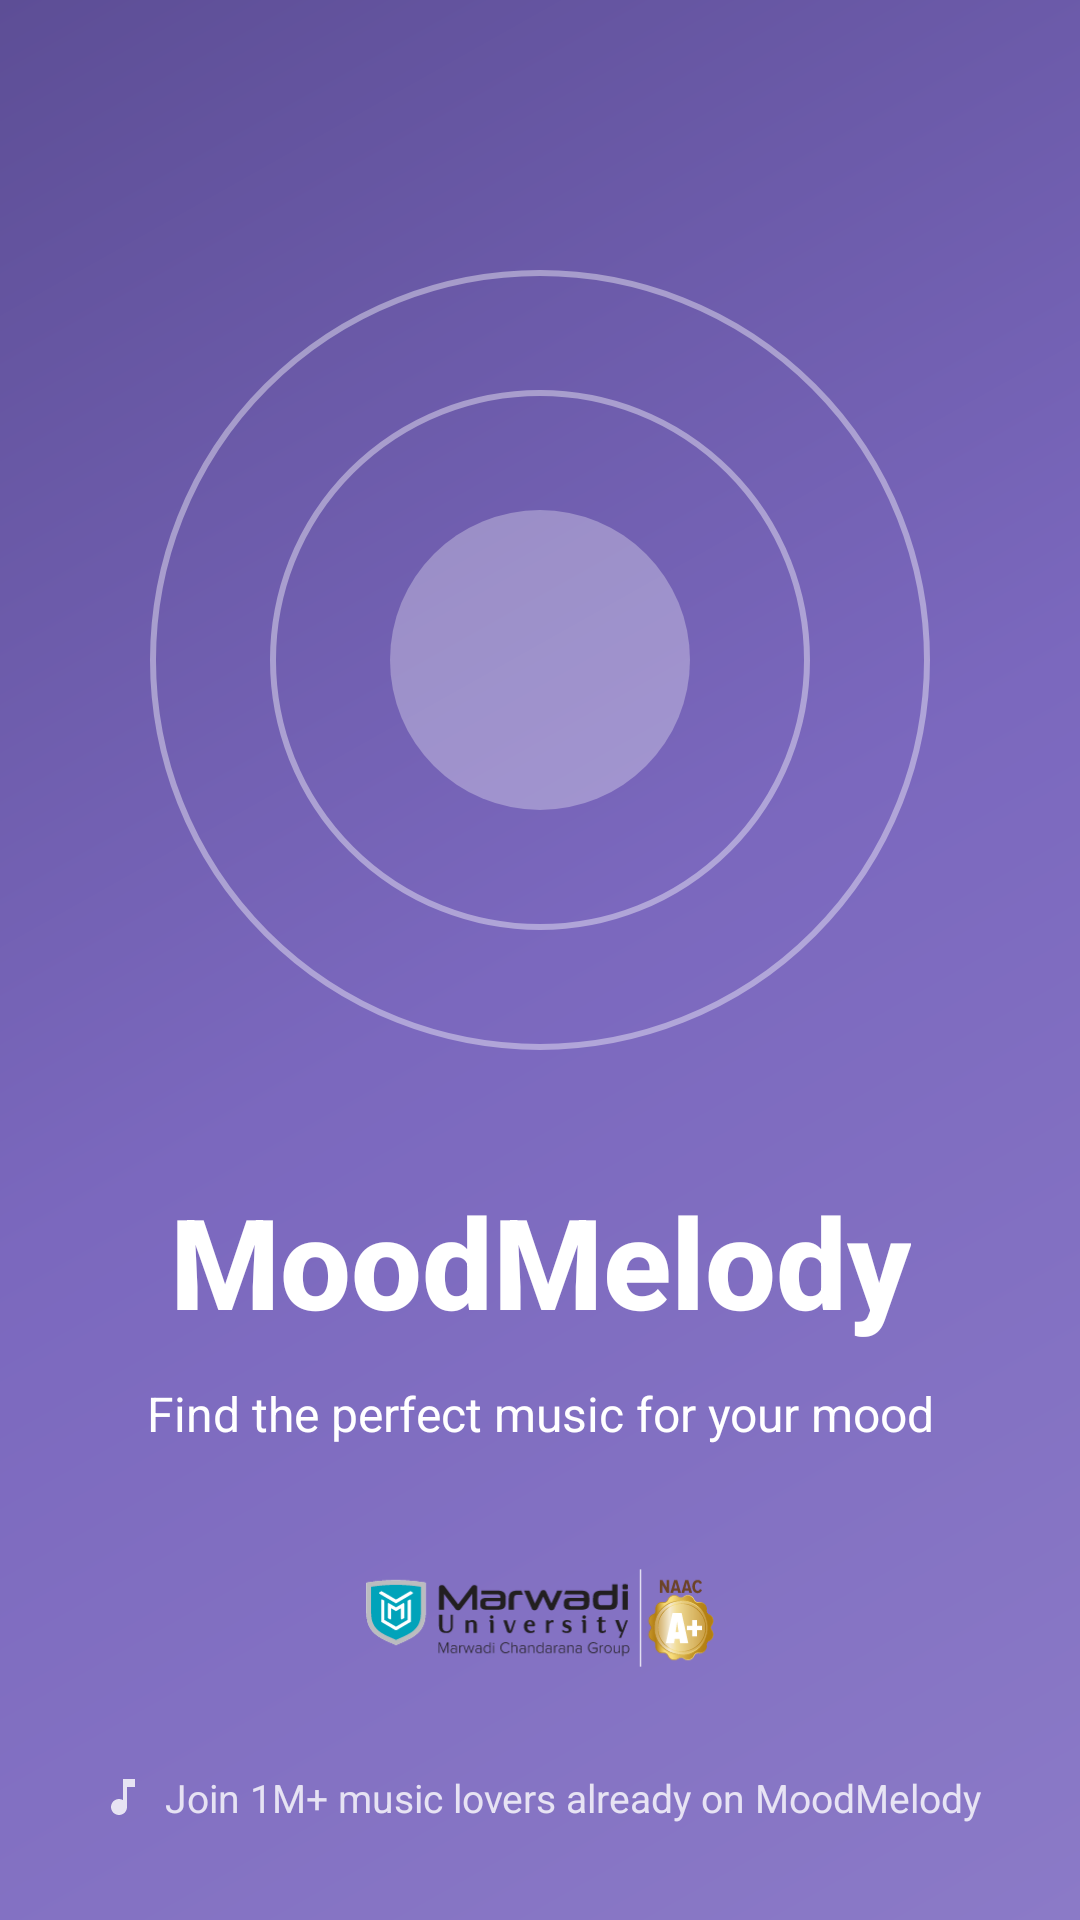

Icons on this 1080w x 1920h Android screen, each with the point to tap as (x=x, y=y):
music note: (x=123, y=1797)
